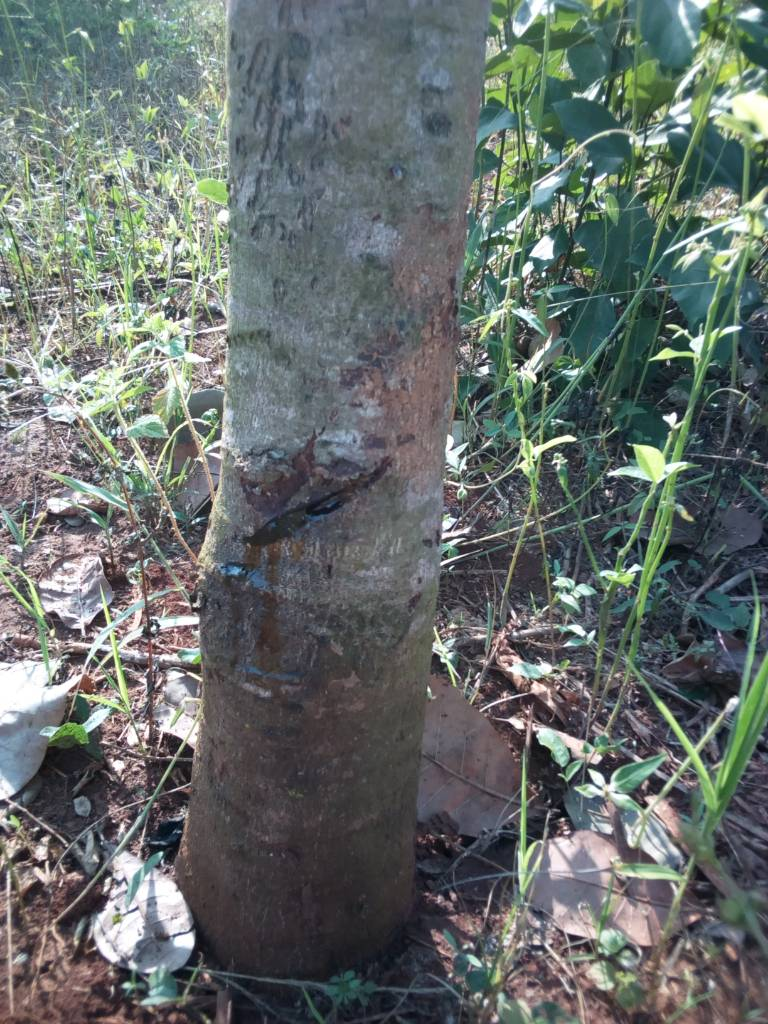Gommose: (225, 425, 380, 655)
